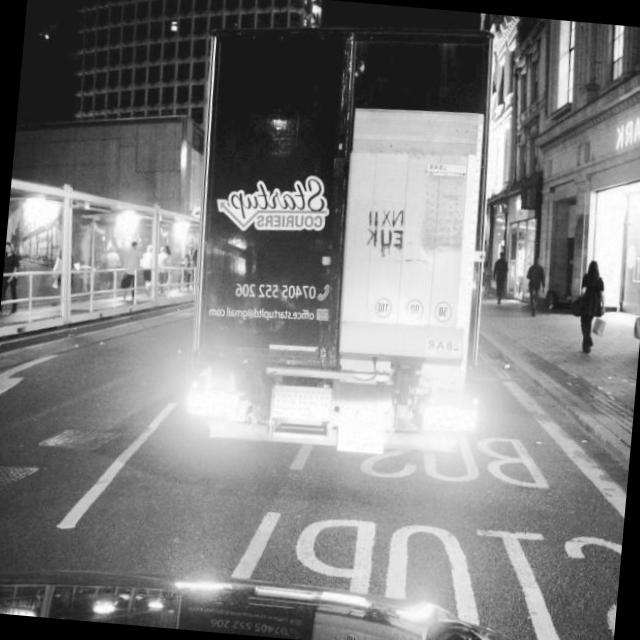Truck: (173, 9, 512, 464)
